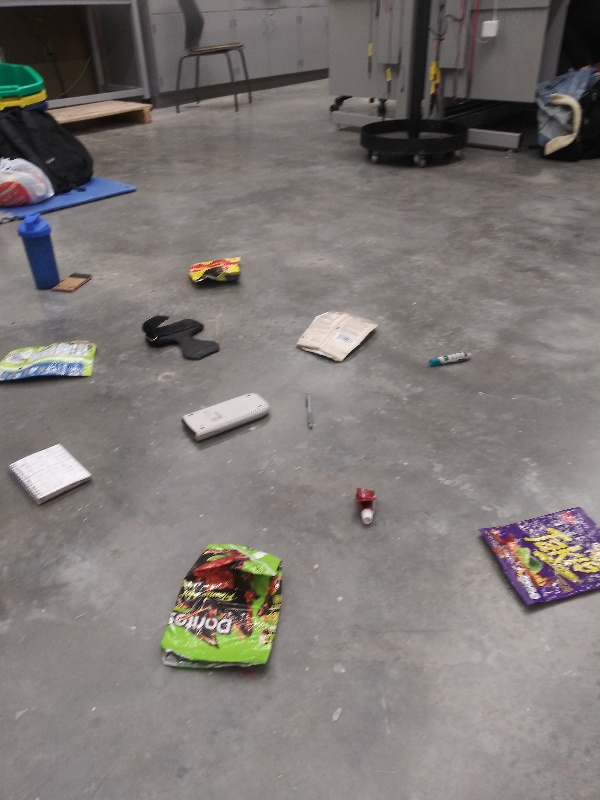bag: (156, 540, 287, 671), (472, 505, 600, 615), (295, 305, 386, 365), (1, 339, 103, 389), (185, 255, 246, 287)
